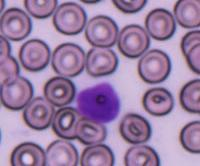L: (76, 77, 123, 126)
